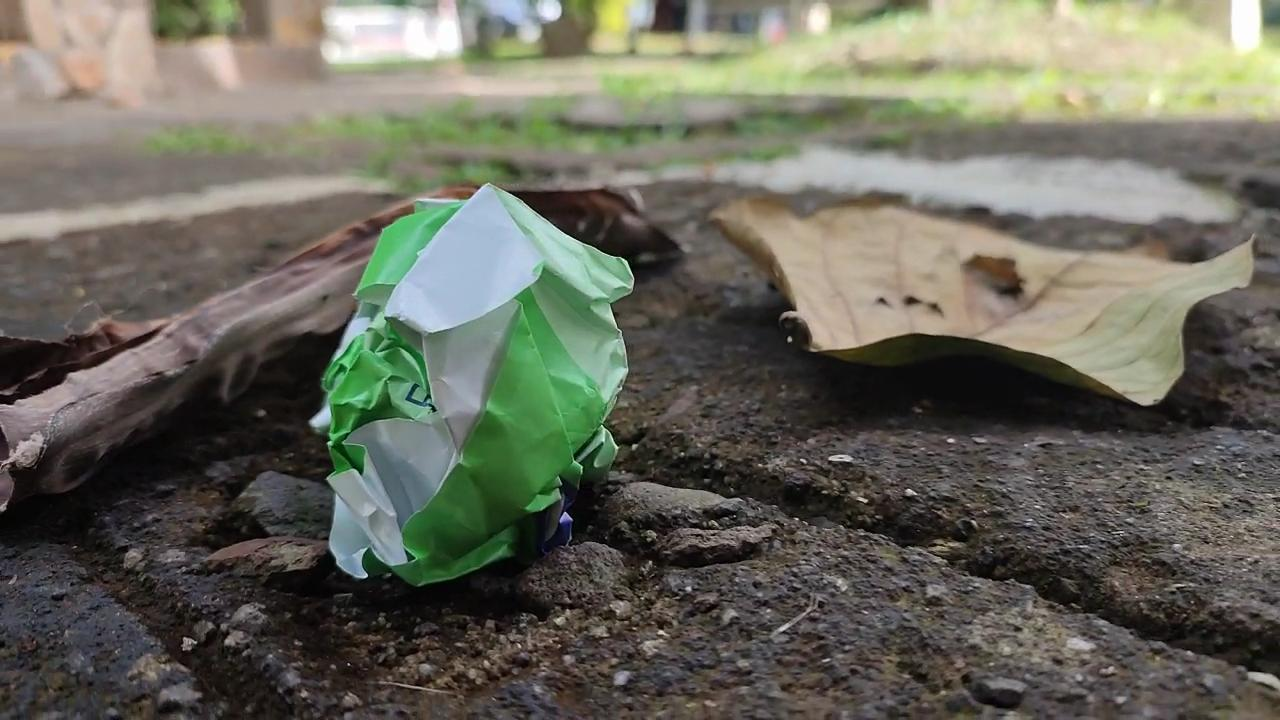Paper: (301, 171, 633, 585)
